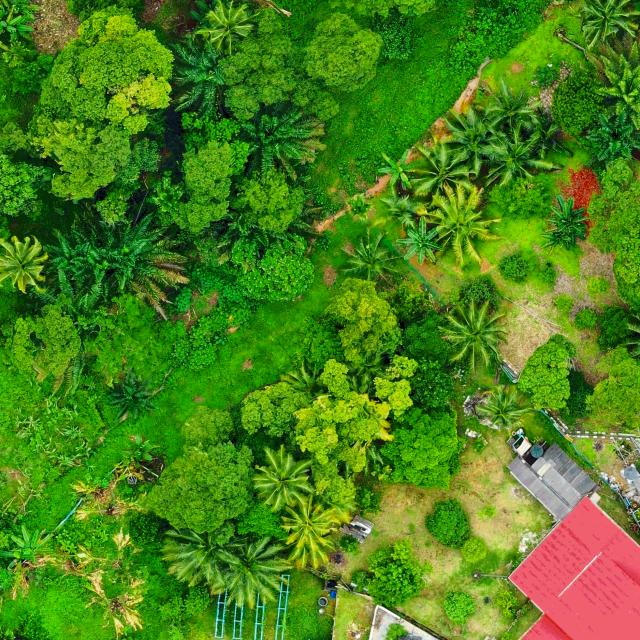Tree: (37, 4, 174, 135), (220, 6, 342, 123), (292, 390, 395, 500), (144, 441, 253, 534), (26, 113, 132, 200), (72, 292, 166, 377), (168, 138, 250, 235), (236, 96, 326, 182), (377, 406, 467, 489), (109, 210, 189, 300), (324, 275, 404, 363), (302, 11, 382, 95), (228, 233, 316, 305), (426, 184, 498, 269), (166, 29, 230, 122), (159, 518, 242, 589), (9, 301, 82, 376), (223, 535, 293, 613), (440, 297, 511, 373), (438, 104, 508, 177), (584, 345, 640, 435), (516, 332, 578, 412), (484, 122, 554, 190), (278, 496, 338, 574), (250, 442, 314, 512), (364, 537, 426, 608), (594, 38, 640, 130), (241, 169, 306, 234), (238, 380, 307, 439), (474, 75, 543, 131), (409, 140, 471, 201), (192, 0, 258, 55), (340, 225, 395, 283), (403, 308, 454, 367), (581, 0, 640, 51), (0, 233, 49, 294), (540, 196, 588, 258), (586, 109, 640, 163), (477, 384, 535, 430), (424, 496, 472, 548), (409, 358, 458, 407), (182, 404, 235, 448), (104, 377, 157, 421), (398, 217, 442, 267), (0, 524, 54, 564), (598, 304, 631, 350), (378, 149, 414, 190), (443, 589, 477, 624), (4, 5, 32, 44), (498, 252, 530, 284), (183, 584, 213, 618), (625, 308, 640, 370), (460, 536, 488, 562), (494, 589, 520, 617), (6, 0, 40, 21), (0, 19, 10, 59)
